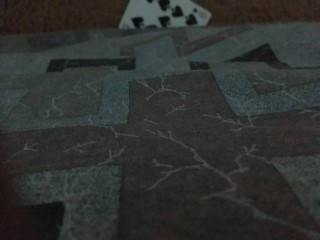NineOfSpades: (118, 1, 211, 27)
